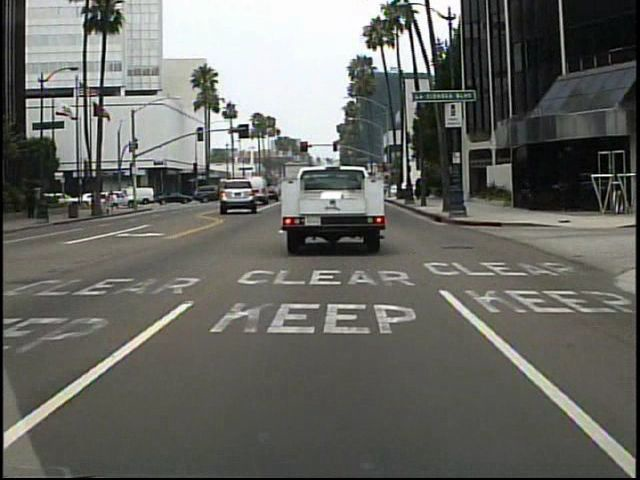person: (110, 189, 123, 216)
